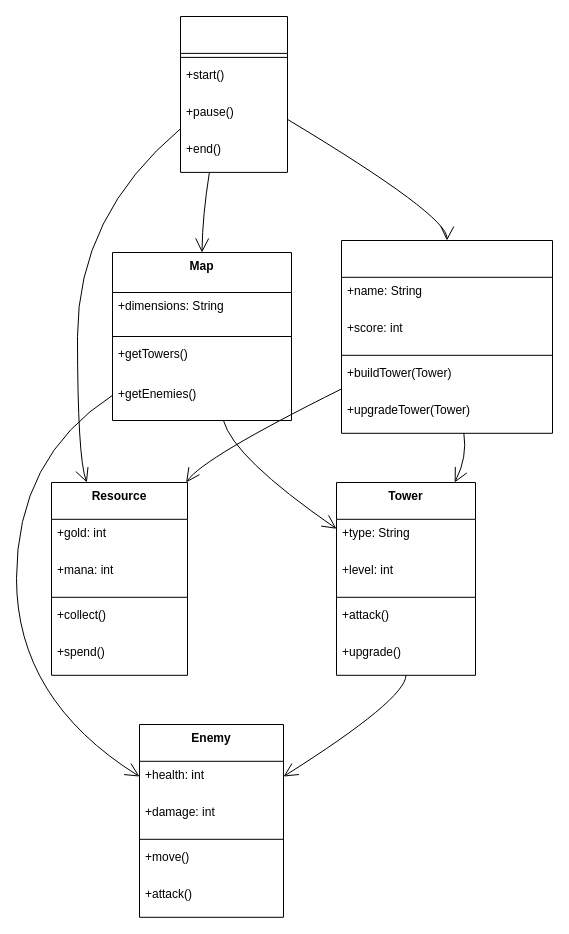
The diagram is 569 pixels wide and 934 high, and some of its shapes have lost their labels. The shapes that lost their labels are listed below. From the top down, each one's box as (x1, y1, x2, y2) in pixels, then its label:
(180, 16, 288, 172): Game
(340, 240, 552, 433): Player
